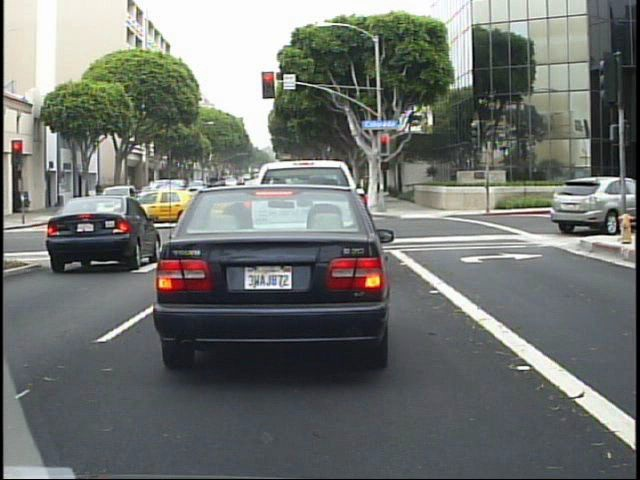person: (91, 178, 107, 211)
